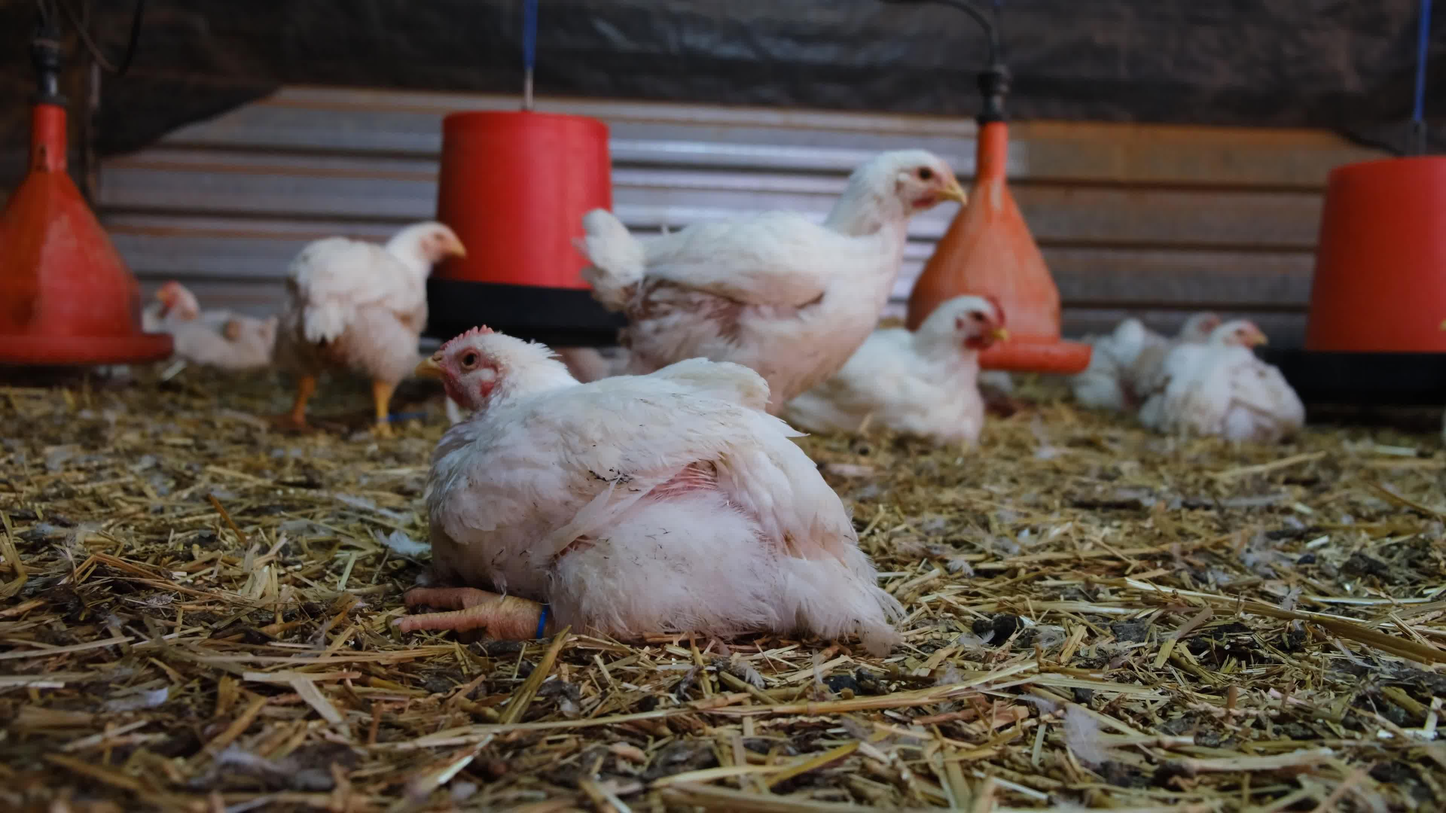AbNormal: (441, 297, 943, 657), (887, 284, 1034, 489), (115, 245, 294, 397), (1209, 314, 1326, 454), (1100, 292, 1190, 429)
Normal: (702, 102, 1000, 501), (303, 203, 471, 442)
